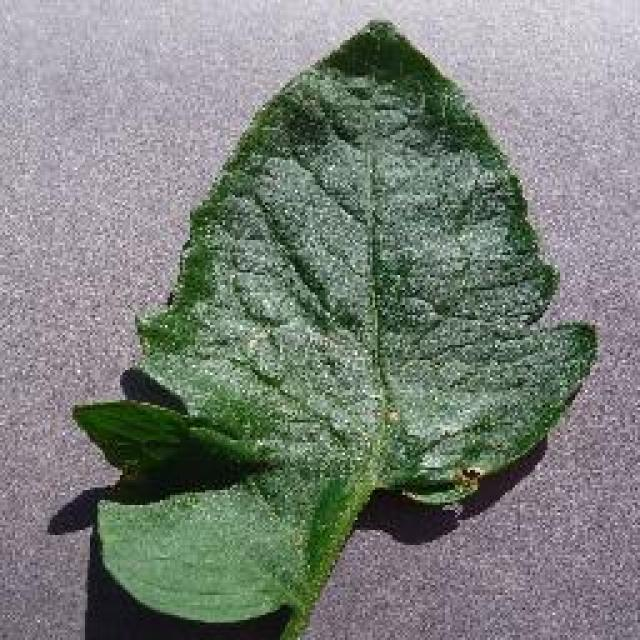Tom_Target_Spot: (354, 383, 415, 455)
